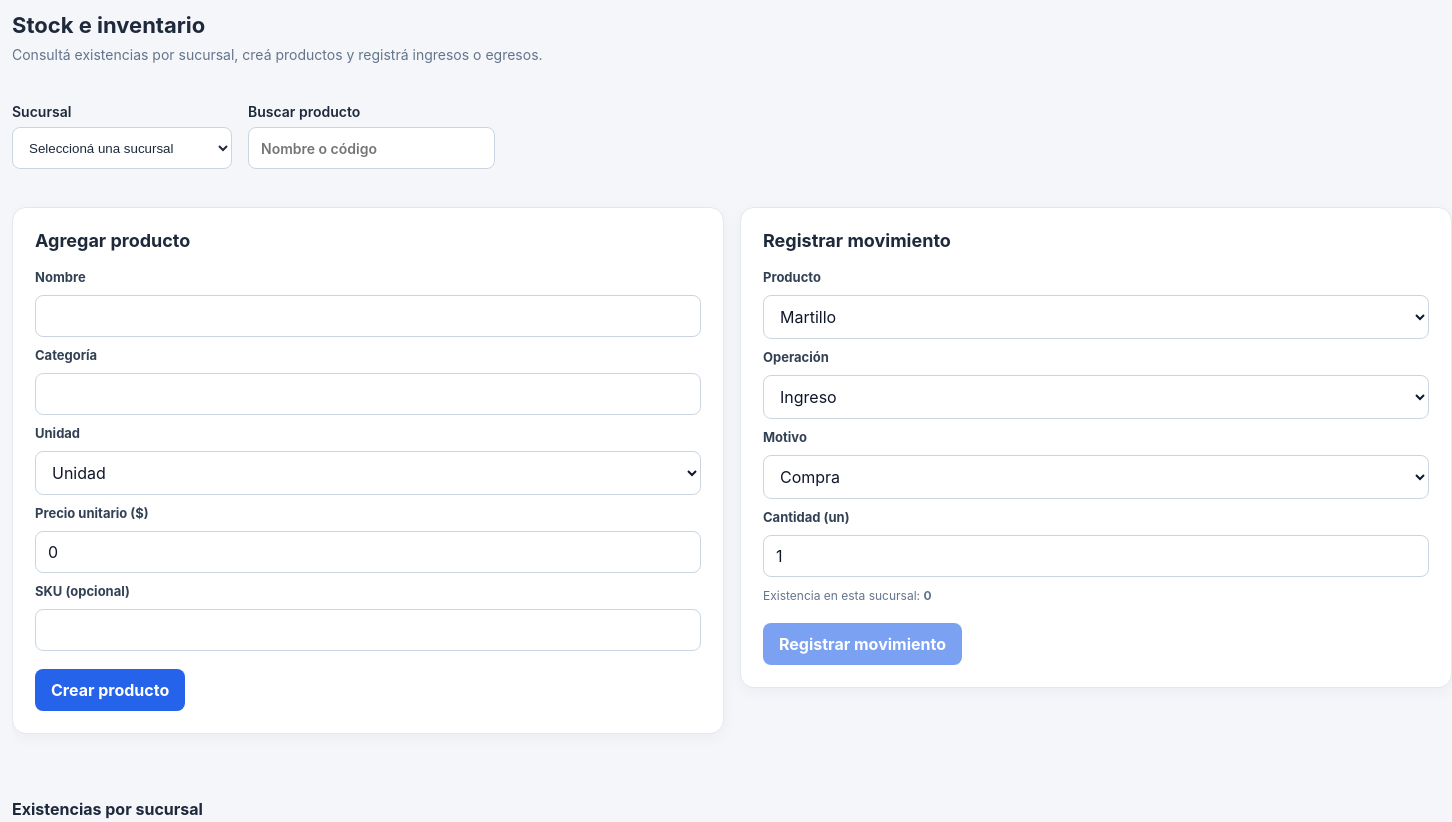
Integración de StockManagement › registra un ingreso de stock correctamente
Select "Sucursal Centro" in the dropdown named "Sucursal Centro" at (122, 148), box x1=12 y1=127 x2=232 y2=169
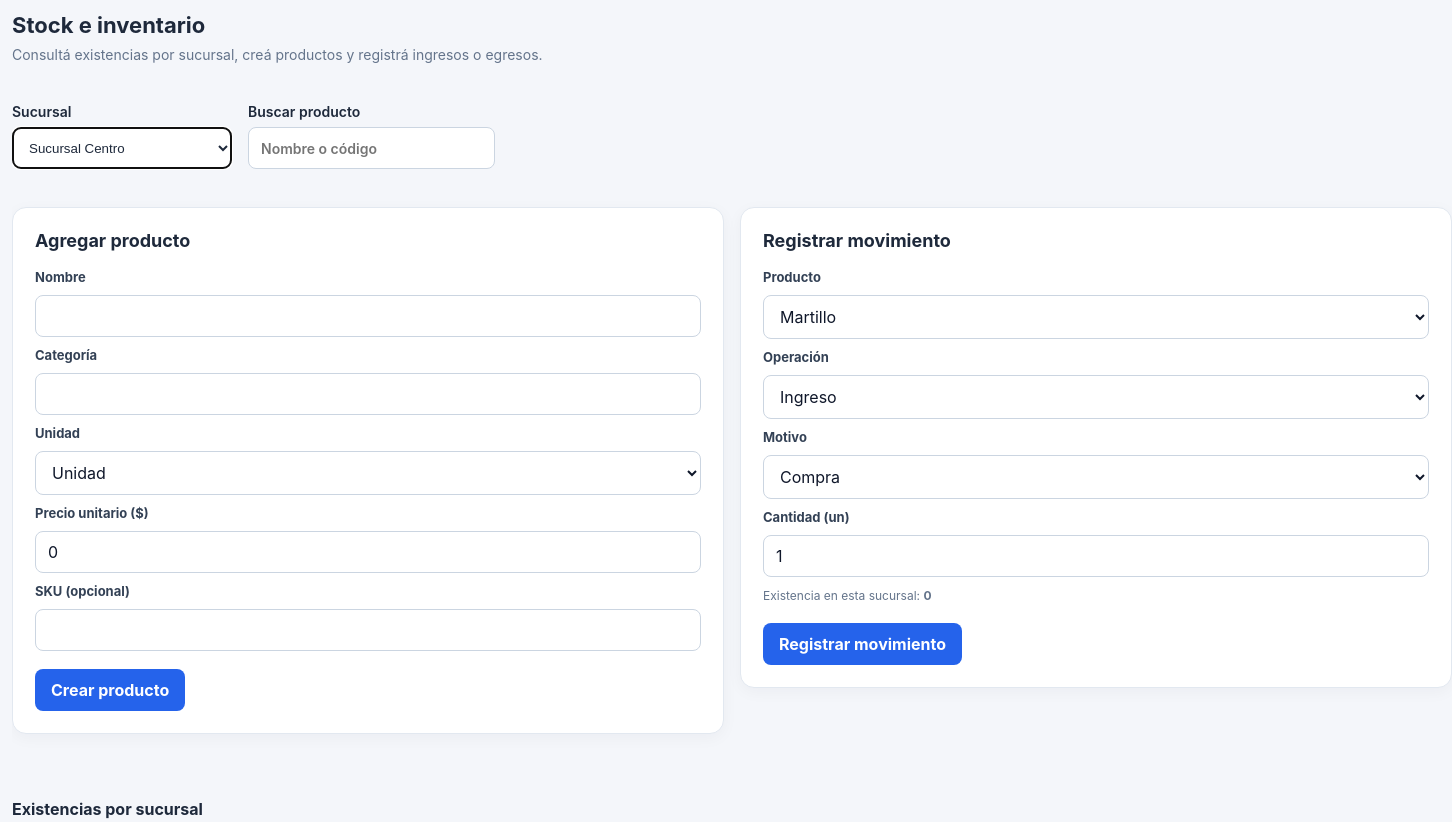
// Seleccionar producto.
Select "Martillo" in the 1st dropdown named "Martillo" at (1096, 317), box x1=763 y1=295 x2=1429 y2=339
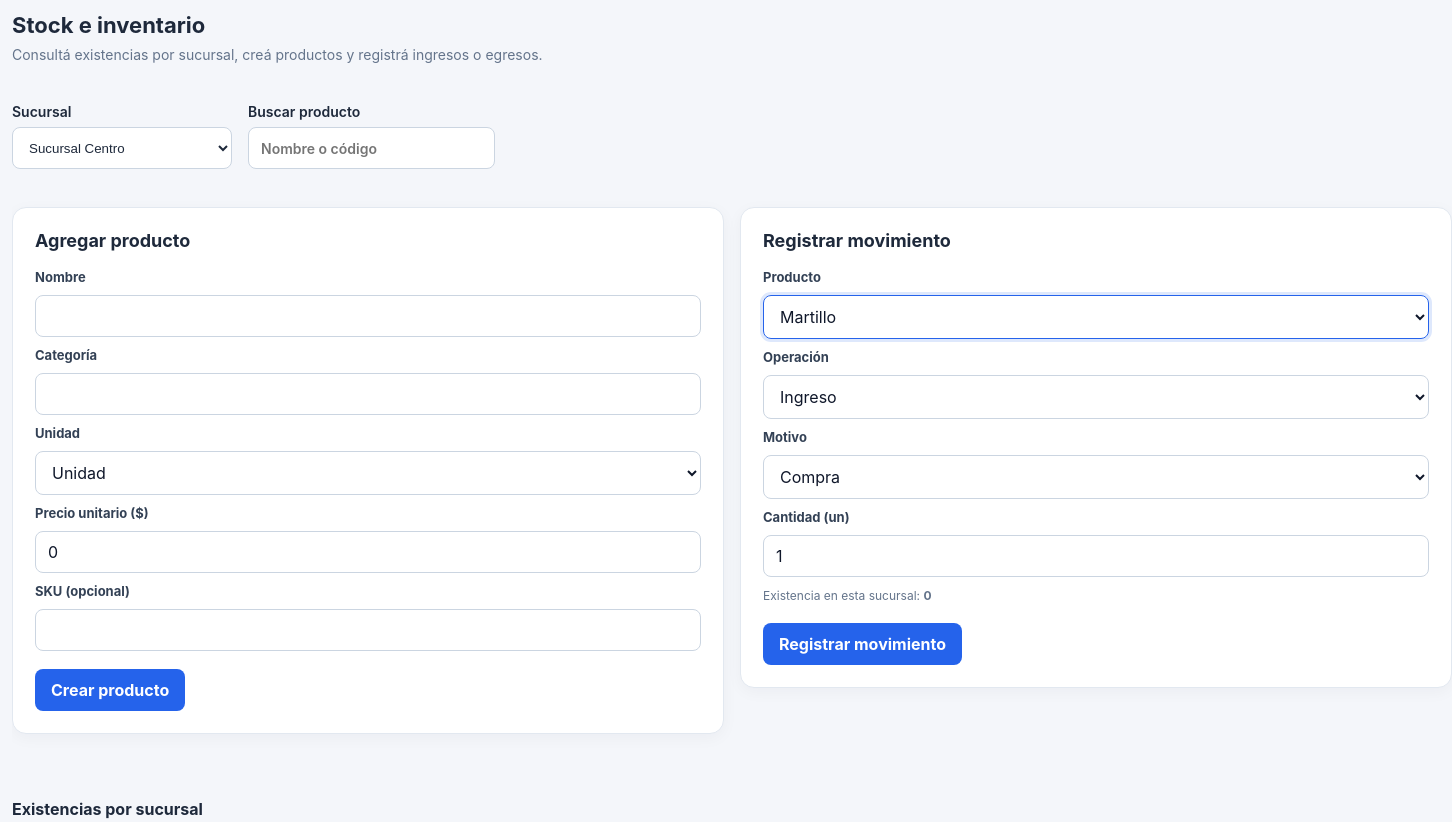
Click the button "Registrar movimiento".
click(862, 644)  # box x1=763 y1=623 x2=962 y2=665
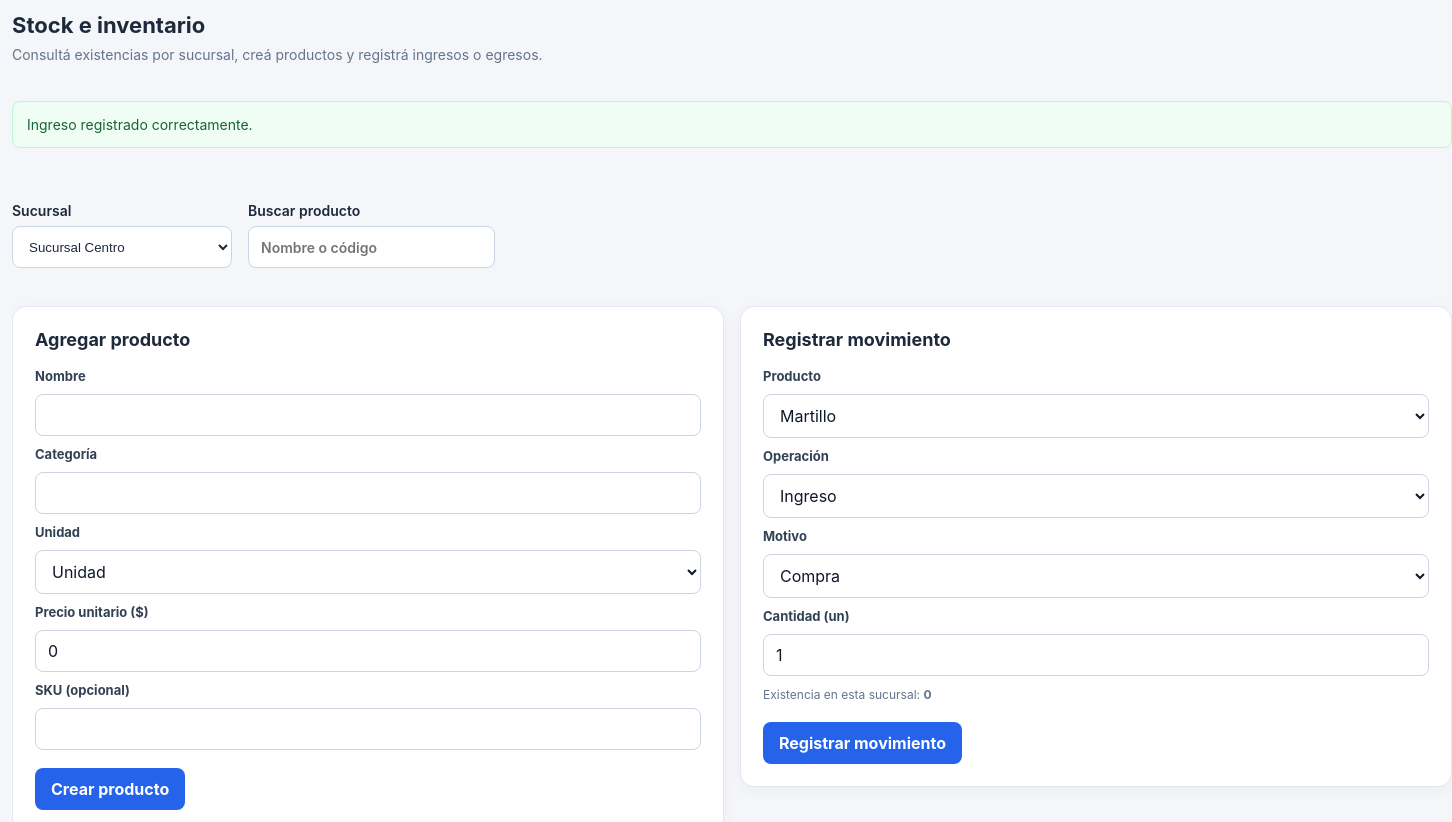
Check: the text "Ingreso registrado correctamente." is shown, box x1=12 y1=101 x2=1451 y2=148
